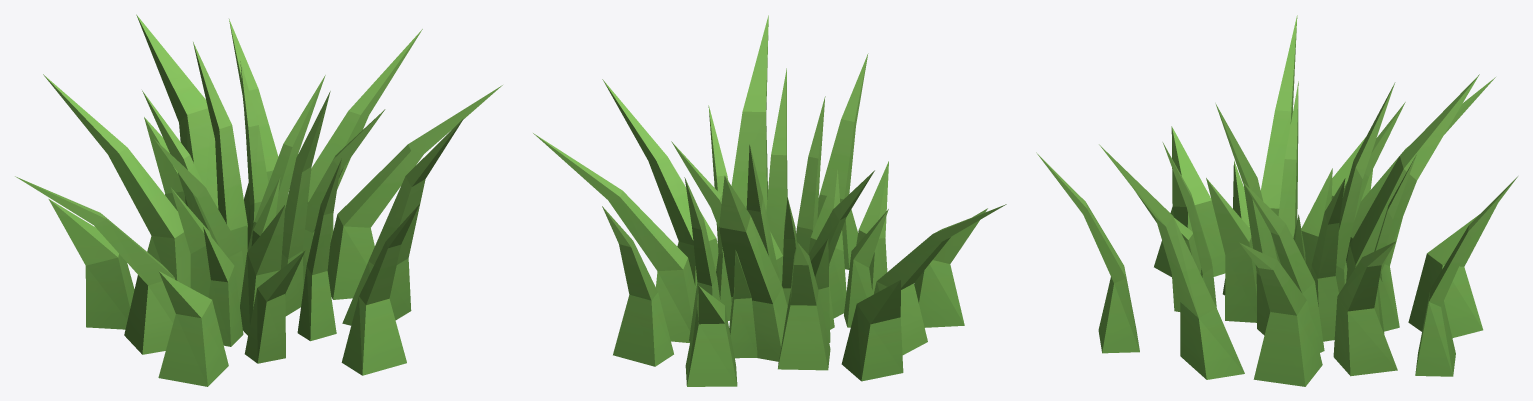
The model's file is grass_short.glb.
The picture shows the model from 3 angles, left to right: view 1: azimuth 30°, elevation 25°; view 2: azimuth 150°, elevation 25°; view 3: azimuth 270°, elevation 25°; orthographic projection. The views are drawn at different scales.
Visible parts, largest first — view 1: grass_short; view 2: grass_short; view 3: grass_short.
Boxes of the visible parts, x1,y1,x2,y2 form: grass_short: (15,14,502,386); grass_short: (533,15,1006,386); grass_short: (1036,15,1517,386).
Size of the model in its own units: 0.7006 by 0.35 by 0.6258.
1 material, 1 textured.
